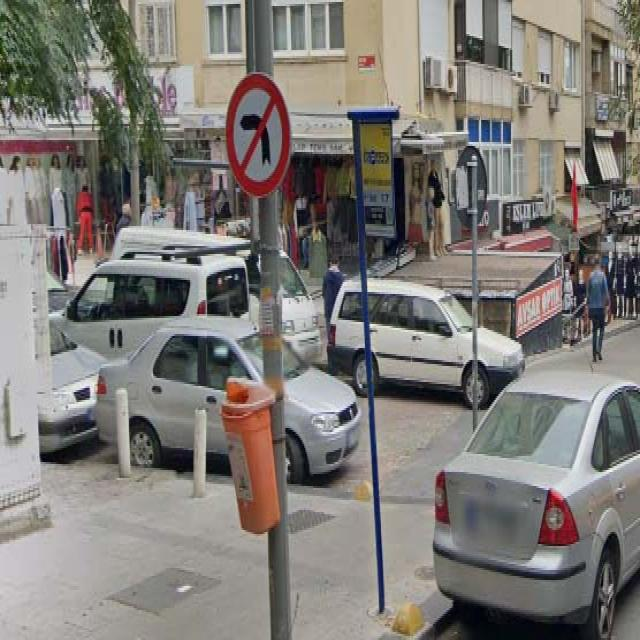soladonulmez: (226, 72, 291, 196)
